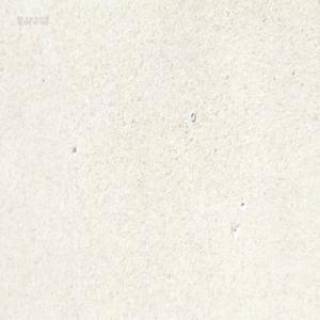Washertrack_idkeyframe: (190, 109, 196, 122)
